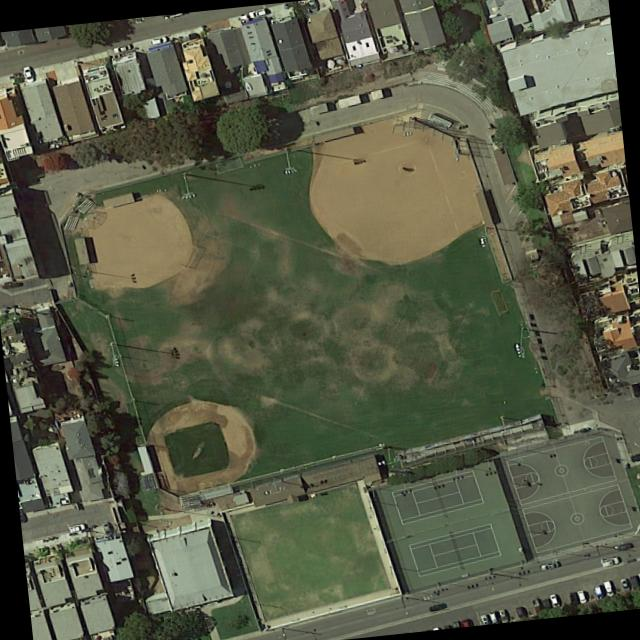small-vehicle: (19, 65, 34, 83), (65, 522, 85, 534), (531, 596, 543, 615), (99, 521, 113, 537), (599, 556, 619, 567), (628, 574, 640, 592), (590, 585, 604, 600), (246, 8, 265, 19), (566, 591, 579, 607), (538, 561, 558, 571), (111, 44, 131, 54), (547, 593, 559, 609), (514, 605, 526, 621), (602, 580, 613, 597), (148, 35, 166, 45), (612, 542, 630, 552), (629, 383, 640, 398), (619, 578, 629, 593), (576, 590, 585, 604), (629, 453, 640, 462), (636, 572, 640, 586)
